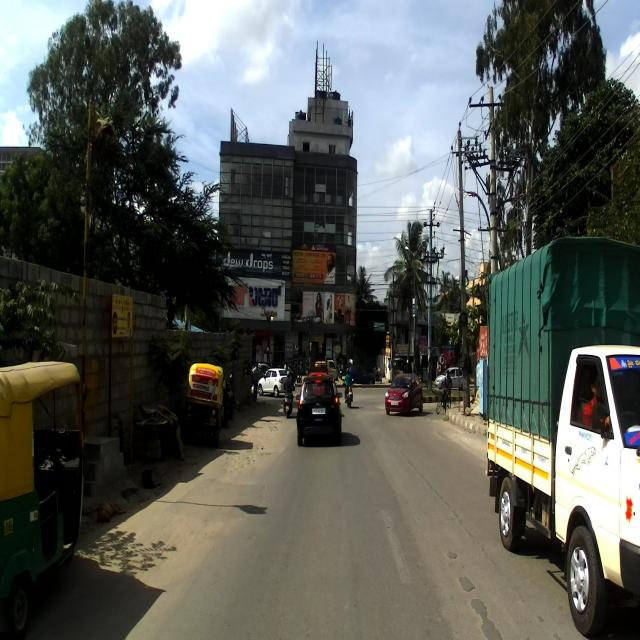autorickshaw: (0, 362, 88, 640)
car: (294, 373, 344, 449), (384, 372, 424, 417)
truck: (484, 236, 639, 636)
